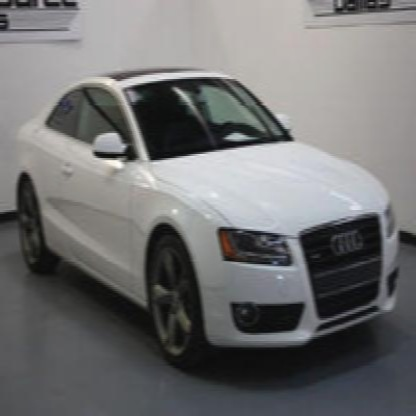Vehicle: (11, 64, 404, 372)
